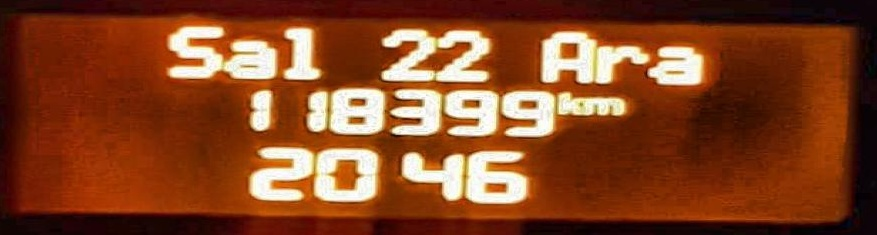0: (312, 145, 377, 203)
1: (238, 86, 275, 136), (302, 82, 326, 136)
2: (245, 143, 312, 208), (376, 26, 434, 83), (440, 26, 497, 82)
3: (392, 87, 439, 136)
4: (398, 148, 465, 203)
6: (468, 147, 527, 204)
8: (331, 83, 388, 136)
9: (444, 85, 497, 137), (501, 88, 553, 139)
X: (160, 22, 222, 81), (536, 27, 593, 84), (650, 43, 707, 86), (284, 23, 326, 81), (225, 36, 278, 79), (597, 46, 645, 83), (585, 94, 628, 115), (555, 89, 584, 115)
